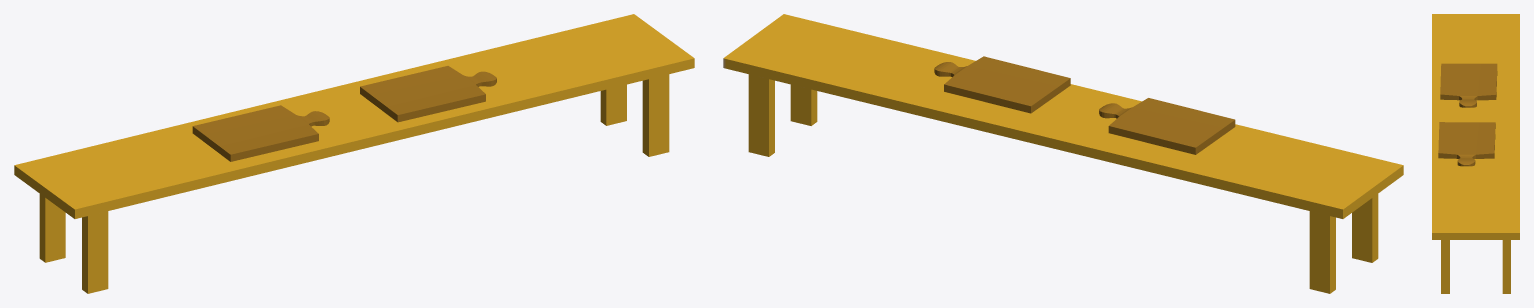
The model's file is foodtruckinside_choppingtable.obj.
3 renders of one model, left to right at view 1: azimuth 30°, elevation 25°; view 2: azimuth 150°, elevation 25°; view 3: azimuth 270°, elevation 25°, orthographic. The views are drawn at different scales.
Visible parts, largest first — view 1: Cube.003, Cube.004, Cube.005; view 2: Cube.003, Cube.004, Cube.005; view 3: Cube.003, Cube.004, Cube.005.
Boxes of the visible parts, x1=… form: Cube.003: x1=14, y1=14, x2=694, y2=293; Cube.004: x1=192, y1=105, x2=329, y2=161; Cube.005: x1=360, y1=66, x2=496, y2=122; Cube.003: x1=723, y1=14, x2=1403, y2=293; Cube.004: x1=1099, y1=98, x2=1235, y2=154; Cube.005: x1=934, y1=56, x2=1070, y2=113; Cube.003: x1=1432, y1=14, x2=1519, y2=293; Cube.004: x1=1440, y1=63, x2=1497, y2=107; Cube.005: x1=1438, y1=122, x2=1495, y2=166.
Bounding box in the file's own units: 18.42 × 2.96 × 3.12.
Materials: 2 (2 with a texture image).
